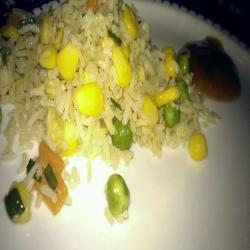rice: (4, 9, 187, 161)
